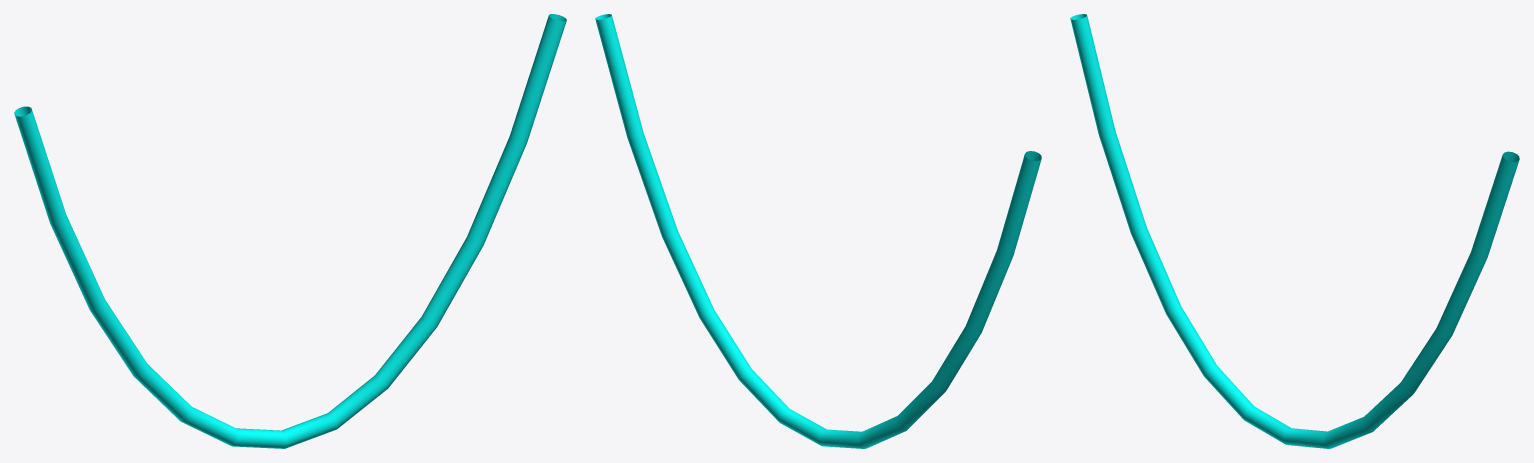
The model's file is BuildingS6.fbx.
The picture shows the model from 3 angles, left to right: view 1: azimuth 30°, elevation 25°; view 2: azimuth 150°, elevation 25°; view 3: azimuth 330°, elevation 25°; orthographic projection. The views are drawn at different scales.
Parts seen in each view (by area): view 1: S6; view 2: S6; view 3: S6.
Part boxes in pixels (x1=…): S6: x1=14, y1=14, x2=566, y2=448; S6: x1=595, y1=14, x2=1041, y2=448; S6: x1=1070, y1=14, x2=1519, y2=448.
Size of the model in its own units: 315 by 226 by 49.86.
